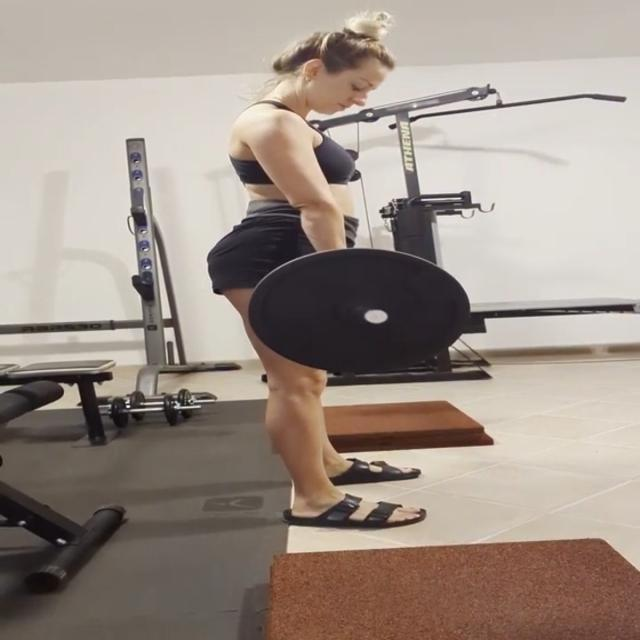barbell: (246, 244, 478, 379)
